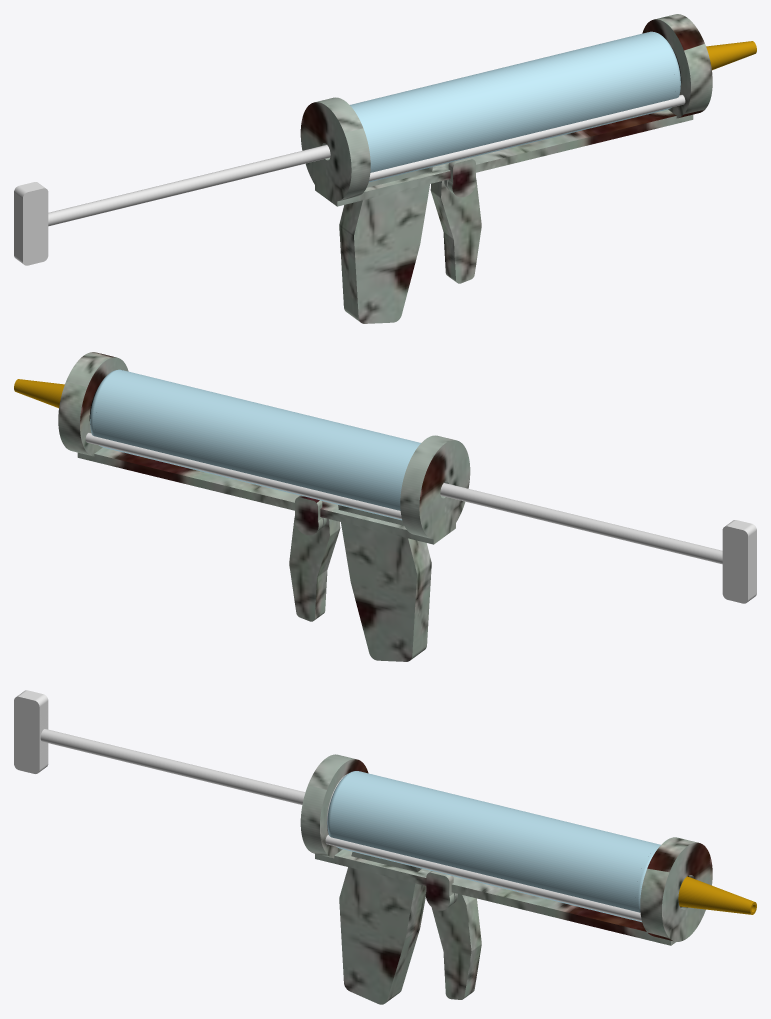
Rendered from Handtools_caulking_gun__0037.glb.
3 renders of one model, top to bottom at view 1: azimuth 30°, elevation 25°; view 2: azimuth 150°, elevation 25°; view 3: azimuth 330°, elevation 25°, orthographic.
Visible parts, largest first — view 1: frame::frame_shell, cartridge::cartridge_body, plunger::plunger_rod, trigger::trigger_blade, frame::rib_rod_0, cartridge::nozzle; view 2: frame::frame_shell, cartridge::cartridge_body, plunger::plunger_rod, trigger::trigger_blade, frame::rib_rod_2, cartridge::nozzle; view 3: cartridge::cartridge_body, frame::frame_shell, plunger::plunger_rod, trigger::trigger_blade, frame::rib_rod_0, cartridge::nozzle.
Boxes of the visible parts, x1=… form: frame::frame_shell: x1=300, y1=14, x2=712, y2=323; cartridge::cartridge_body: x1=350, y1=31, x2=680, y2=182; plunger::plunger_rod: x1=14, y1=145, x2=330, y2=265; trigger::trigger_blade: x1=430, y1=179, x2=481, y2=283; frame::rib_rod_0: x1=369, y1=95, x2=685, y2=181; cartridge::nozzle: x1=706, y1=41, x2=756, y2=70; frame::frame_shell: x1=58, y1=352, x2=470, y2=661; cartridge::cartridge_body: x1=90, y1=369, x2=420, y2=520; plunger::plunger_rod: x1=440, y1=483, x2=756, y2=603; trigger::trigger_blade: x1=289, y1=517, x2=340, y2=621; frame::rib_rod_2: x1=85, y1=433, x2=401, y2=519; cartridge::nozzle: x1=14, y1=379, x2=64, y2=408; cartridge::cartridge_body: x1=327, y1=771, x2=660, y2=922; frame::frame_shell: x1=300, y1=754, x2=712, y2=1004; plunger::plunger_rod: x1=14, y1=690, x2=346, y2=834; trigger::trigger_blade: x1=431, y1=893, x2=481, y2=999; frame::rib_rod_0: x1=325, y1=835, x2=641, y2=920; cartridge::nozzle: x1=678, y1=876, x2=756, y2=914.
Size of the model in its own units: 0.5762 by 0.1694 by 0.069.
Materials: 5 (1 with a texture image).
